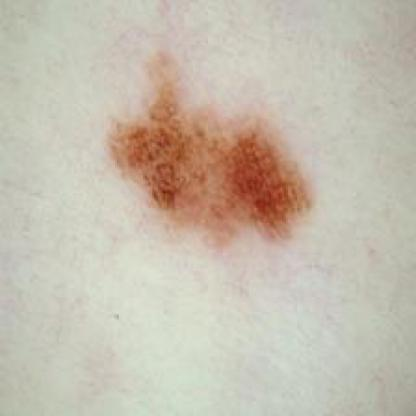malignant: (100, 70, 318, 238)
